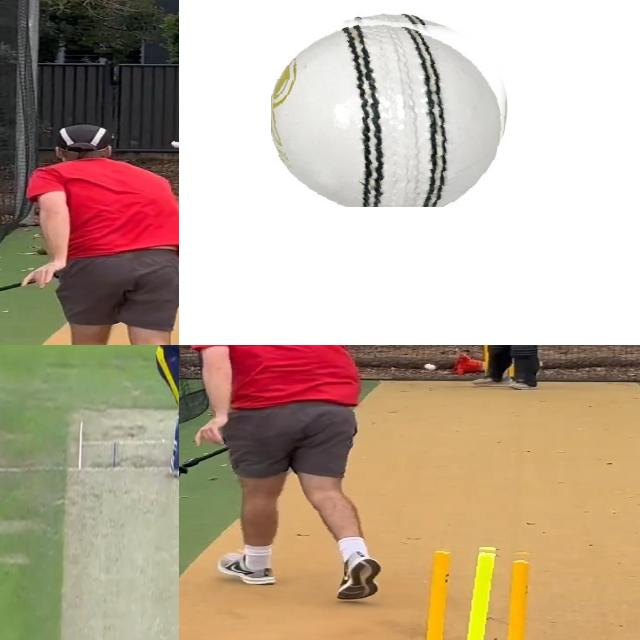Cricket ball: (271, 10, 510, 207), (424, 362, 438, 371), (169, 139, 179, 148)
Stumps: (410, 544, 553, 640)
